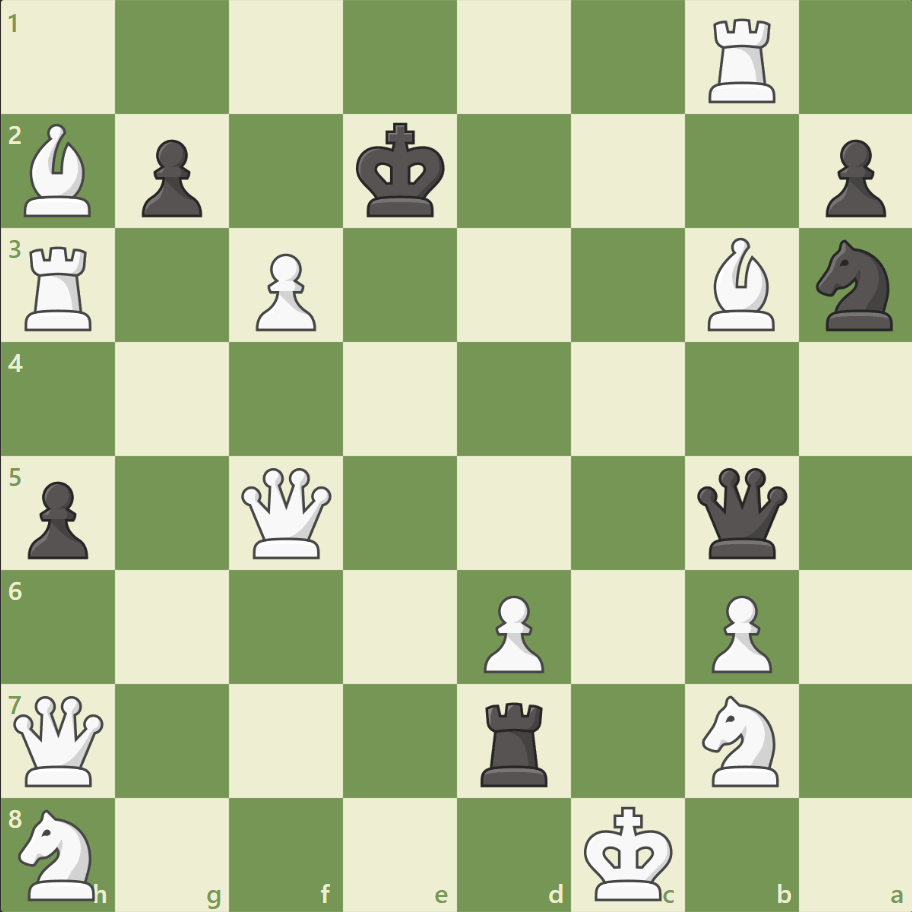B: (698, 233, 782, 336), (17, 120, 101, 222)
K: (579, 798, 679, 906)
N: (692, 688, 789, 791), (11, 802, 108, 904)
P: (701, 586, 776, 677), (474, 586, 549, 677), (247, 246, 322, 337)
Q: (10, 690, 109, 789), (237, 463, 336, 562)
R: (19, 239, 102, 336), (700, 12, 783, 109)
k: (351, 117, 451, 225)
n: (806, 234, 903, 337)
p: (20, 473, 95, 564), (133, 132, 208, 223), (815, 132, 889, 223)
q: (691, 463, 790, 562)
r: (473, 693, 556, 790)
